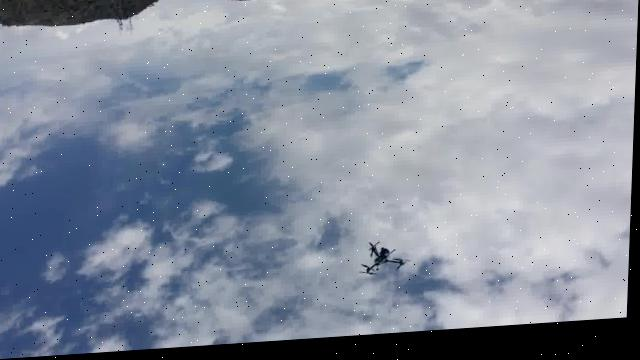drone: (351, 230, 429, 296)
